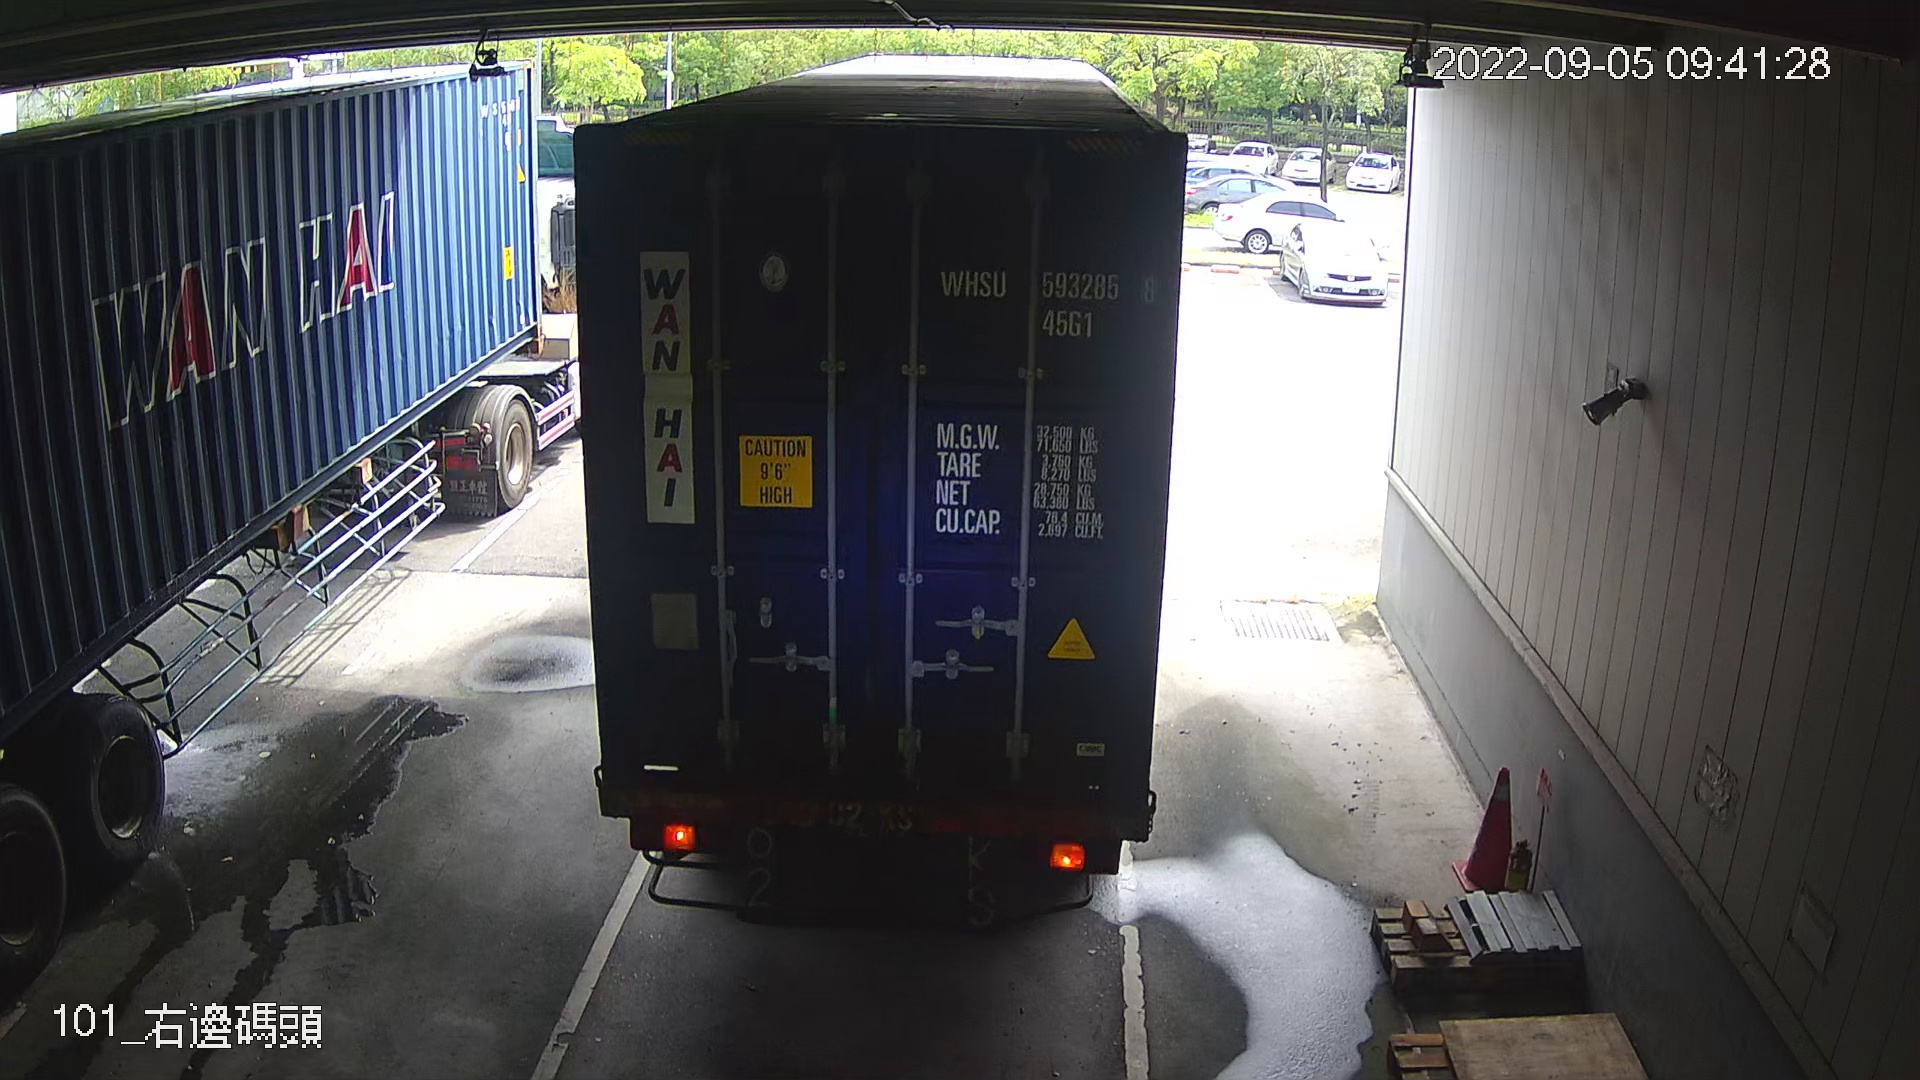container: (928, 255, 1164, 352)
